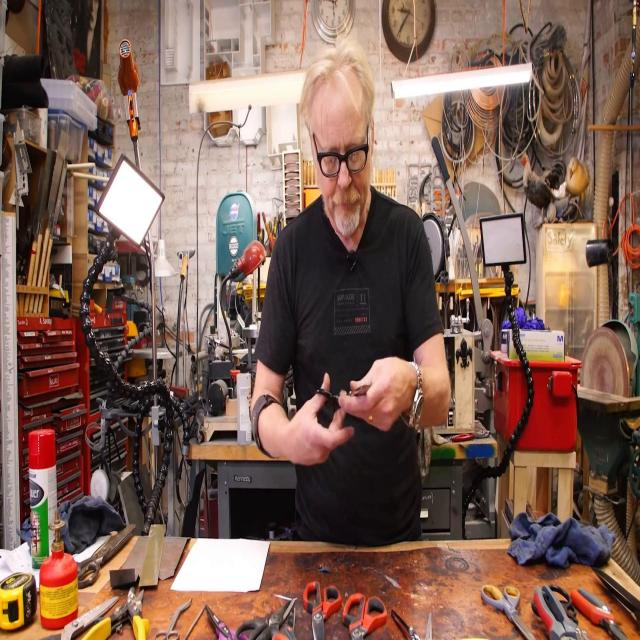scissor: (77, 523, 136, 588), (44, 597, 118, 640), (482, 585, 534, 640), (572, 589, 628, 640), (591, 566, 640, 617), (235, 600, 294, 640), (303, 582, 340, 640), (344, 593, 386, 640), (206, 605, 247, 640), (392, 608, 432, 640), (316, 383, 376, 399), (272, 607, 298, 640)
